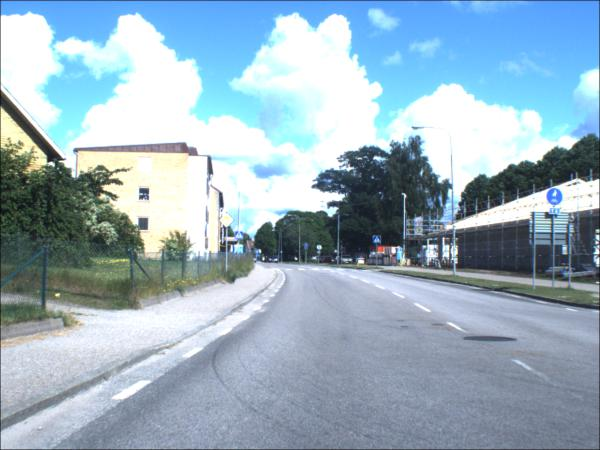PEDESTRIAN_CROSSING: (235, 233, 244, 241), (373, 237, 381, 246)
PRIORITY_ROAD: (219, 214, 235, 229)
